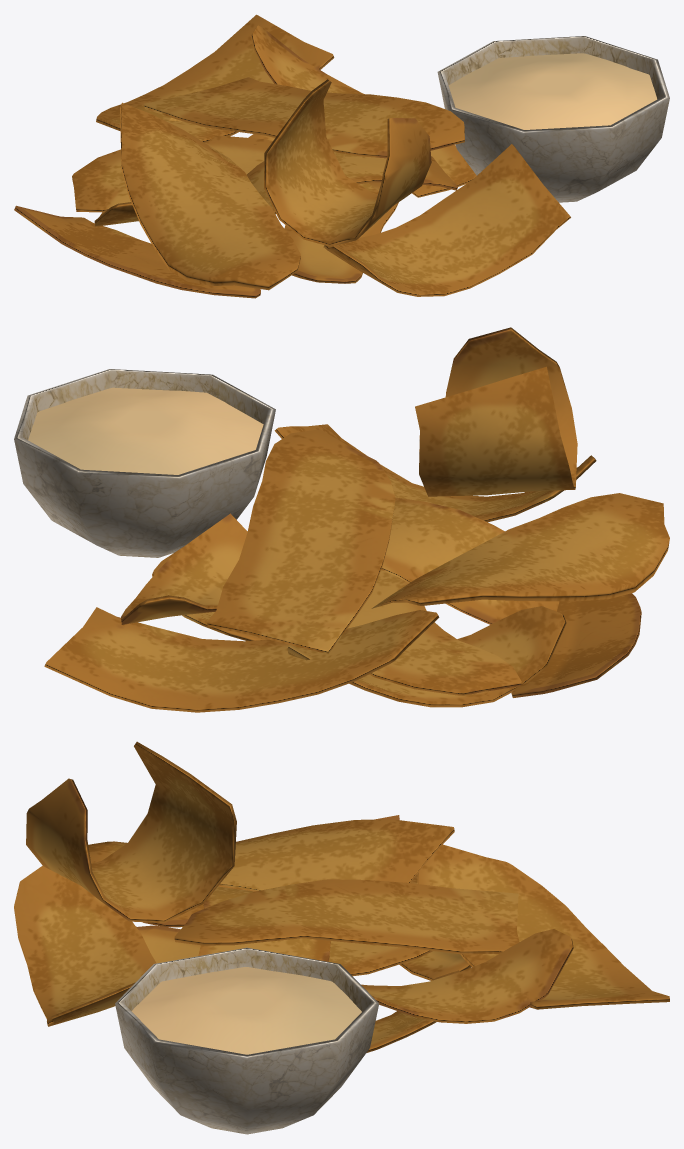
The model's file is arracacha2.glb.
3 views of the same model, one above another, from view 1: azimuth 30°, elevation 25°; view 2: azimuth 150°, elevation 25°; view 3: azimuth 270°, elevation 25° (orthographic). The views are drawn at different scales.
Visible parts, largest first — view 1: polySurface22, pDisc3; view 2: polySurface22, pDisc3; view 3: polySurface22, pDisc3.
Part boxes in pixels (<box>): polySurface22: <box>14,14,570,298</box>; pDisc3: <box>437,36,669,202</box>; polySurface22: <box>44,327,669,712</box>; pDisc3: <box>14,369,275,557</box>; polySurface22: <box>14,741,669,1052</box>; pDisc3: <box>115,947,379,1134</box>.
Bounding box in the file's own units: 1.91 × 0.6046 × 1.72.
3 materials, 3 textured.
